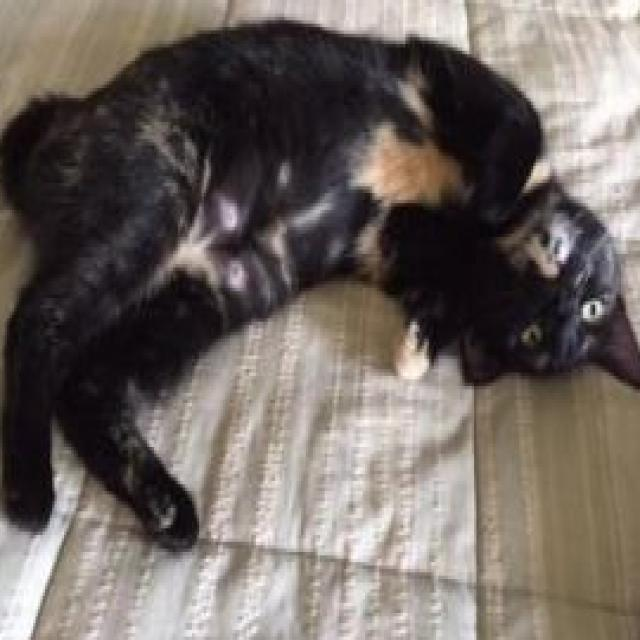American Bobtail: (0, 10, 640, 559)
